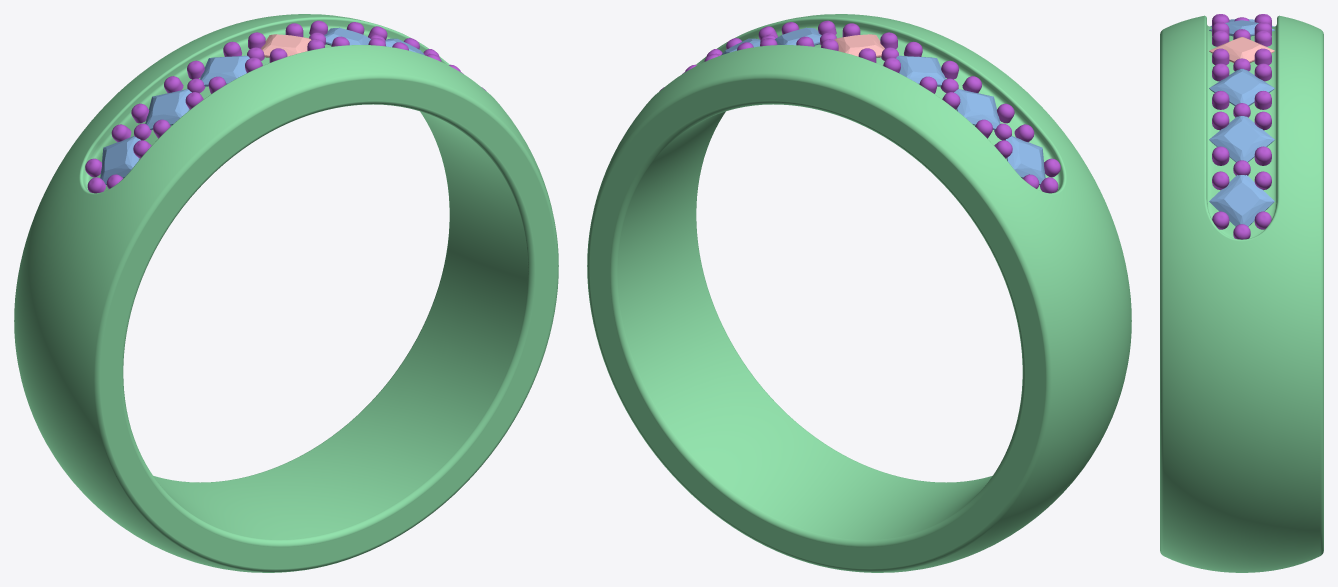
3 views of the same model, side by side, from view 1: azimuth 30°, elevation 25°; view 2: azimuth 150°, elevation 25°; view 3: azimuth 270°, elevation 25° (orthographic).
Parts seen in each view (by area): view 1: ZB-286 - Danielle King.3dm, Diamond_Princess (×4); view 2: ZB-286 - Danielle King.3dm, Diamond_Princess (×4); view 3: ZB-286 - Danielle King.3dm, Diamond_Princess (×5), Prong (×18).
Boxes of the visible parts, box(x1,y1,x2,y2) form: ZB-286 - Danielle King.3dm: box(14, 14, 558, 572); Diamond_Princess (×4): box(100, 34, 311, 184); ZB-286 - Danielle King.3dm: box(587, 14, 1131, 572); Diamond_Princess (×4): box(834, 34, 1045, 184); ZB-286 - Danielle King.3dm: box(1160, 15, 1323, 572); Diamond_Princess (×5): box(1209, 20, 1274, 226); Prong (×18): box(1212, 30, 1271, 239).
Bounding box in the file's own units: 2.78 × 2.76 × 0.8109.
